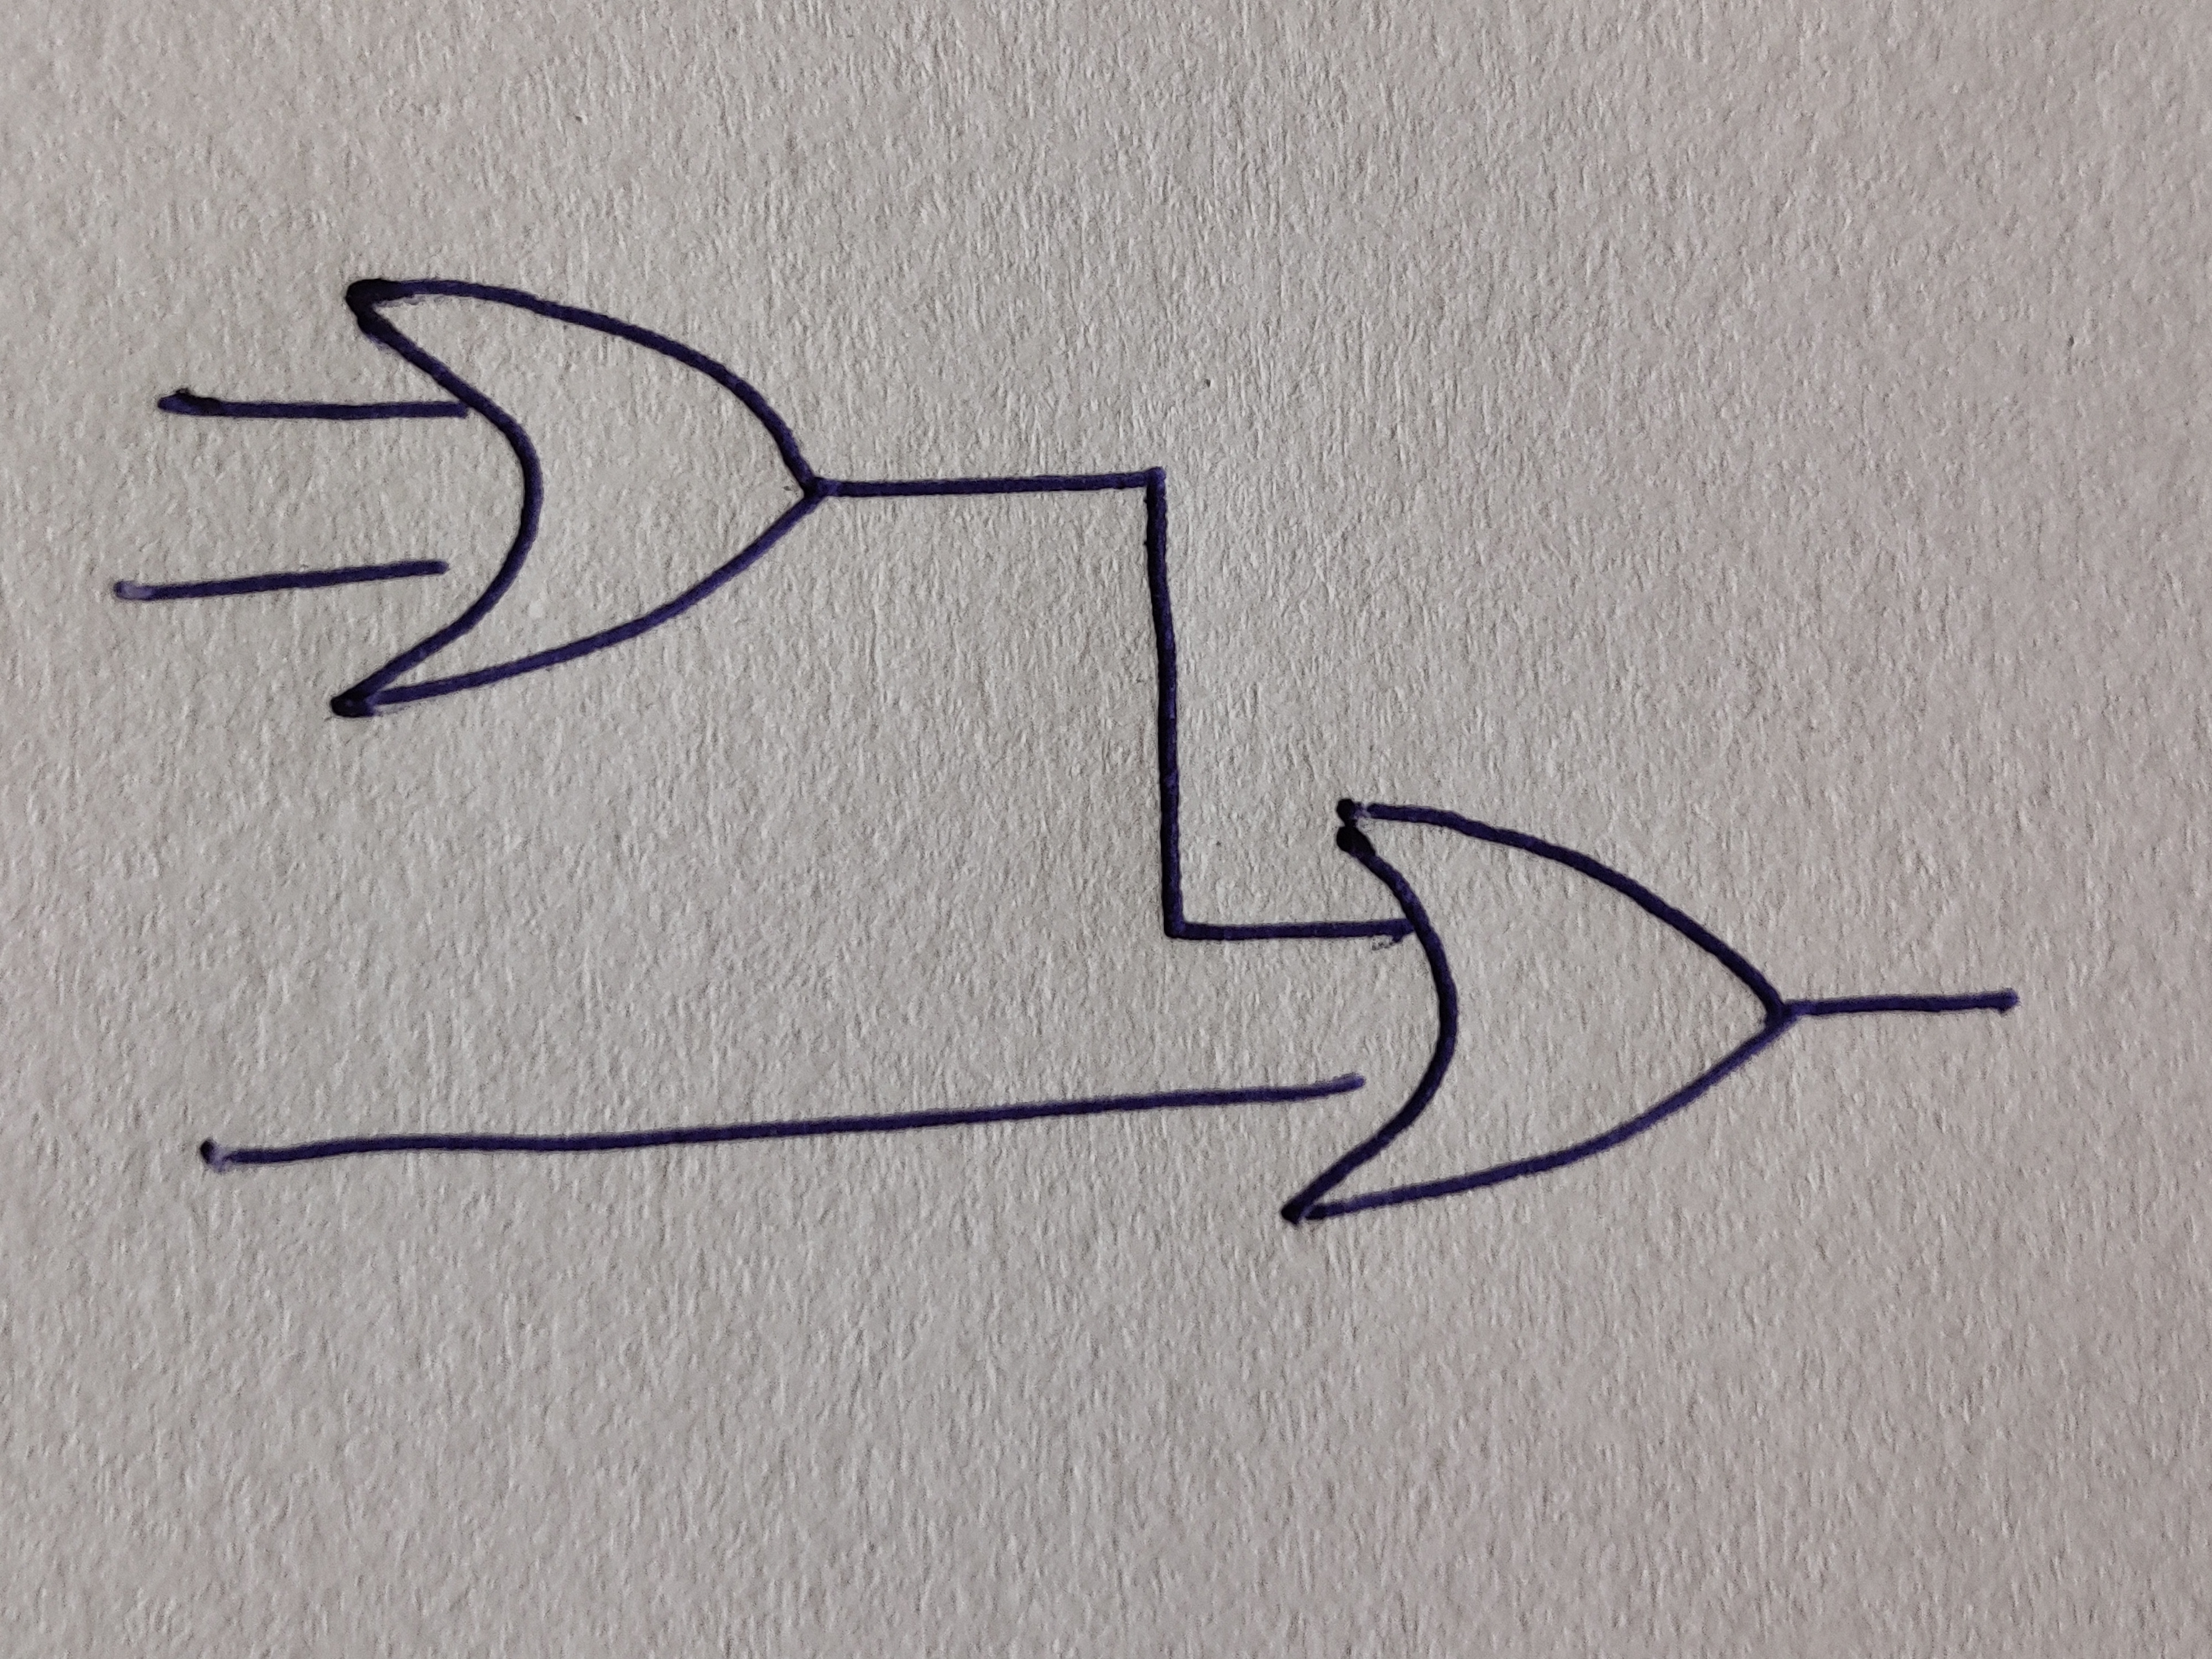or: (1280, 802, 1796, 1229), (331, 279, 827, 718)
